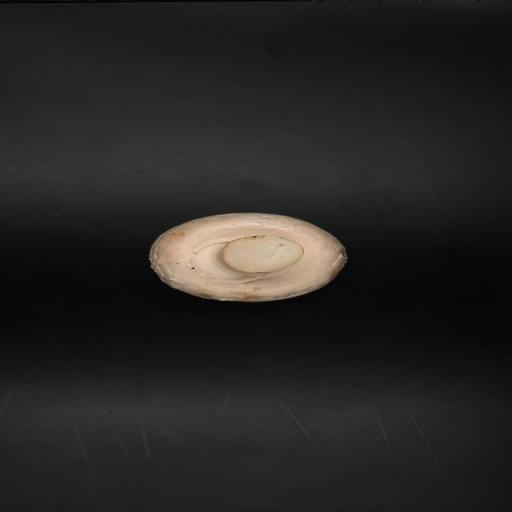Button Mushroom: (147, 209, 349, 307)
